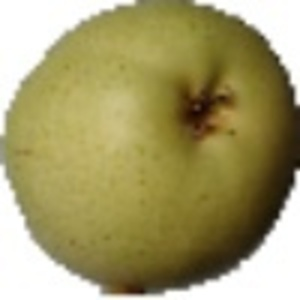pera: (1, 1, 300, 300)
